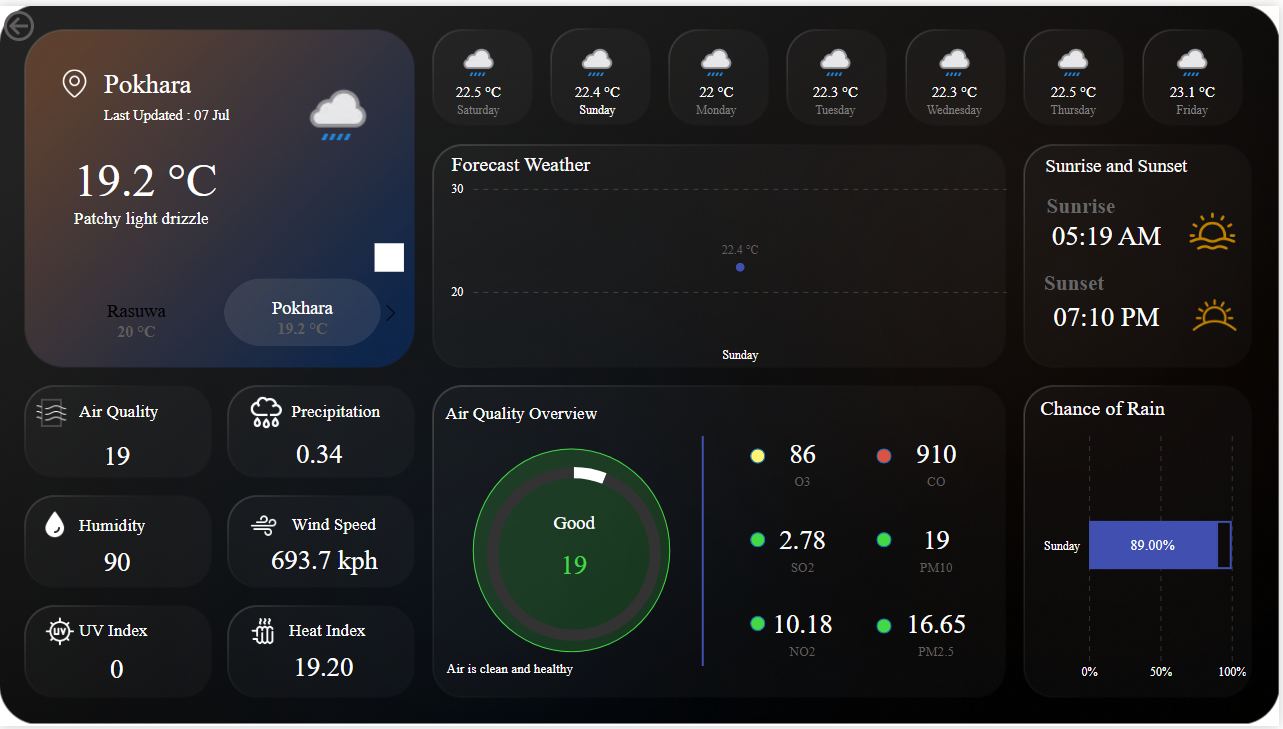

Layout of this report page (visuals, bound fields, positions):
{"tool":"powerbi","page":{"name":"Page 1","canvas":[1280,720],"ordinal":0},"visuals":[{"type":"shape","box":[473.8,442.5,197.5,203.8],"z":0},{"type":"advancedSlicerVisual","fields":{"Values":["Locations.location.name"]},"box":[33.3,267,373.3,75.6],"z":1000},{"type":"shape","box":[75.6,147.8,211.1,48.9],"z":2000},{"type":"shape","box":[75.6,196.7,297.8,32.2],"z":3000},{"type":"shape","box":[105,58.8,138.8,38.8],"z":4000},{"type":"image","box":[48.8,58.8,53.8,37.5],"z":5000},{"type":"shape","box":[105,97.5,137.5,22.5],"z":6000},{"type":"cardVisual","fields":{"Data":["Min(Current.current.condition.icon)"]},"box":[286.7,50,110,93.3],"z":7000},{"type":"image","box":[35,500,41,37],"z":8000},{"type":"shape","box":[80,507,105,25],"z":9000},{"type":"card","fields":{"Values":["Sum(Current.current.humidity)"]},"box":[74,532,89,47],"z":10000},{"type":"image","box":[243.7,500.7,42.2,37.4],"z":11000},{"type":"shape","box":[292,506.7,105,25.3],"z":12000},{"type":"card","fields":{"Values":["_Measures.Wind_Speed"]},"box":[233,527,186,52],"z":13000},{"type":"image","box":[29,383,47,48],"z":14000},{"type":"shape","box":[80,394,105,25],"z":15000},{"type":"card","fields":{"Values":["Sum(Current.current.air_quality.pm10)"]},"box":[80,431,76,37],"z":16000},{"type":"image","box":[243,383,50,48],"z":17000},{"type":"shape","box":[293,394,105,25],"z":18000},{"type":"card","fields":{"Values":["Sum(Current.current.precip_mm)"]},"box":[287,431,66,34],"z":19000},{"type":"image","box":[41,605,39,40],"z":20000},{"type":"shape","box":[80,612,105,25],"z":21000},{"type":"card","fields":{"Values":["Sum(Current.current.uv)"]},"box":[94,645,48,36],"z":22000},{"type":"actionButton","box":[0,0,100,40],"z":23000},{"type":"image","box":[242,605,44,40],"z":24000},{"type":"shape","box":[290,612,105,25],"z":25000},{"type":"card","fields":{"Values":["Sum(Current.current.heatindex_c)"]},"box":[287,640,74,41],"z":26000},{"type":"advancedSlicerVisual","fields":{"Values":["Forecast_Day.Forecast_Day"]},"box":[418.9,25.6,841.1,104.4],"z":27000},{"type":"lineChart","title":"Forecast Weather","fields":{"Category":["Forecast_Day.Forecast_Day"],"Y":["Sum(Forecast_Day.forecast.forecastday.day.avgtemp_c)"]},"box":[447.1,147.1,565.7,217.1],"z":28000},{"type":"shape","box":[1046.2,147.5,151.2,25],"z":29000},{"type":"card","fields":{"Values":["Min(Forecast_Day.Sunrise_Date)"]},"box":[1045,213.8,125,31.2],"z":30000},{"type":"card","fields":{"Values":["Min(Forecast_Day.Sunset_Date)"]},"box":[1045,296.2,125,30],"z":31000},{"type":"shape","box":[1047.5,187.5,125,25],"z":32000},{"type":"shape","box":[1044.5,265.5,125,25],"z":33000},{"type":"image","box":[1184.5,197.3,56.4,55.5],"z":34000},{"type":"image","box":[1180,274.5,70.9,68.2],"z":35000},{"type":"hundredPercentStackedBarChart","title":"Chance of Rain","fields":{"Y":["Sum(Forecast_Day.forecast.forecastday.day.daily_chance_of_rain)","_Measures.Left_Value_Rain"],"Category":["Forecast_Day.Forecast_Day"]},"box":[1035.7,391.4,215.7,290],"z":36000},{"type":"card","fields":{"Values":["Sum(Current.current.air_quality.co)"]},"box":[892.5,420,90,70],"z":37000},{"type":"shape","box":[446.7,395.6,166.7,24.4],"z":38000},{"type":"card","fields":{"Values":["Sum(Current.current.air_quality.pm10)"]},"box":[892.5,506.2,90,70],"z":39000},{"type":"card","fields":{"Values":["Sum(Current.current.air_quality.pm2_5)"]},"box":[892.5,590,90,70],"z":40000},{"type":"card","fields":{"Values":["Sum(Current.current.air_quality.o3)"]},"box":[758.8,420,90,70],"z":41000},{"type":"card","fields":{"Values":["Sum(Current.current.air_quality.so2)"]},"box":[758.8,506.2,90,70],"z":42000},{"type":"card","fields":{"Values":["Sum(Current.current.air_quality.no2)"]},"box":[758.8,590,90,70],"z":43000},{"type":"shape","box":[877.5,526.2,15,15],"z":44000},{"type":"shape","box":[877.5,442.5,15,15],"z":45000},{"type":"shape","box":[877.5,612.5,15,15],"z":46000},{"type":"shape","box":[751.2,442.5,15,15],"z":47000},{"type":"shape","box":[751.2,526.2,15,15],"z":48000},{"type":"shape","box":[751.2,610,15,15],"z":49000},{"type":"shape","box":[628.8,430,150,230],"z":50000},{"type":"card","fields":{"Values":["Sum(Current.current.air_quality.pm10)"]},"box":[518.8,506.2,112.5,83.8],"z":51000},{"type":"donutChart","fields":{"Y":["Sum(Current.current.air_quality.pm10)","_Measures.Left_value_PM10"]},"box":[461.2,425,227.5,246.2],"z":52000},{"type":"shape","box":[447.8,651.1,255.6,24.4],"z":53000}]}

Visuals, with their boxes in screenshot pixels (x1, y1, x2, y2), scaled from the page's 1280x720 canvas onto the 1283x729 screenshot:
shape: [x1=475, y1=448, x2=673, y2=654]
advancedSlicerVisual - Locations.location.name: [x1=33, y1=270, x2=408, y2=347]
shape: [x1=76, y1=150, x2=287, y2=199]
shape: [x1=76, y1=199, x2=374, y2=232]
shape: [x1=105, y1=60, x2=244, y2=99]
image: [x1=49, y1=60, x2=103, y2=98]
shape: [x1=105, y1=99, x2=243, y2=122]
cardVisual - Min(Current.current.condition.icon): [x1=287, y1=51, x2=398, y2=145]
image: [x1=35, y1=506, x2=76, y2=544]
shape: [x1=80, y1=513, x2=185, y2=539]
card - Sum(Current.current.humidity): [x1=74, y1=539, x2=163, y2=586]
image: [x1=244, y1=507, x2=287, y2=545]
shape: [x1=293, y1=513, x2=398, y2=539]
card - _Measures.Wind_Speed: [x1=234, y1=534, x2=420, y2=586]
image: [x1=29, y1=388, x2=76, y2=436]
shape: [x1=80, y1=399, x2=185, y2=424]
card - Sum(Current.current.air_quality.pm10): [x1=80, y1=436, x2=156, y2=474]
image: [x1=244, y1=388, x2=294, y2=436]
shape: [x1=294, y1=399, x2=399, y2=424]
card - Sum(Current.current.precip_mm): [x1=288, y1=436, x2=354, y2=471]
image: [x1=41, y1=613, x2=80, y2=653]
shape: [x1=80, y1=620, x2=185, y2=645]
card - Sum(Current.current.uv): [x1=94, y1=653, x2=142, y2=690]
actionButton: [x1=0, y1=0, x2=100, y2=40]
image: [x1=243, y1=613, x2=287, y2=653]
shape: [x1=291, y1=620, x2=396, y2=645]
card - Sum(Current.current.heatindex_c): [x1=288, y1=648, x2=362, y2=690]
advancedSlicerVisual - Forecast_Day.Forecast_Day: [x1=420, y1=26, x2=1263, y2=132]
"Forecast Weather" lineChart: [x1=448, y1=149, x2=1015, y2=369]
shape: [x1=1049, y1=149, x2=1200, y2=175]
card - Min(Forecast_Day.Sunrise_Date): [x1=1047, y1=216, x2=1173, y2=248]
card - Min(Forecast_Day.Sunset_Date): [x1=1047, y1=300, x2=1173, y2=330]
shape: [x1=1050, y1=190, x2=1175, y2=215]
shape: [x1=1047, y1=269, x2=1172, y2=294]
image: [x1=1187, y1=200, x2=1244, y2=256]
image: [x1=1183, y1=278, x2=1254, y2=347]
"Chance of Rain" hundredPercentStackedBarChart: [x1=1038, y1=396, x2=1254, y2=690]
card - Sum(Current.current.air_quality.co): [x1=895, y1=425, x2=985, y2=496]
shape: [x1=448, y1=401, x2=615, y2=425]
card - Sum(Current.current.air_quality.pm10): [x1=895, y1=513, x2=985, y2=583]
card - Sum(Current.current.air_quality.pm2_5): [x1=895, y1=597, x2=985, y2=668]
card - Sum(Current.current.air_quality.o3): [x1=761, y1=425, x2=851, y2=496]
card - Sum(Current.current.air_quality.so2): [x1=761, y1=513, x2=851, y2=583]
card - Sum(Current.current.air_quality.no2): [x1=761, y1=597, x2=851, y2=668]
shape: [x1=880, y1=533, x2=895, y2=548]
shape: [x1=880, y1=448, x2=895, y2=463]
shape: [x1=880, y1=620, x2=895, y2=635]
shape: [x1=753, y1=448, x2=768, y2=463]
shape: [x1=753, y1=533, x2=768, y2=548]
shape: [x1=753, y1=618, x2=768, y2=633]
shape: [x1=630, y1=435, x2=781, y2=668]
card - Sum(Current.current.air_quality.pm10): [x1=520, y1=513, x2=633, y2=597]
donutChart - Sum(Current.current.air_quality.pm10) x _Measures.Left_value_PM10: [x1=462, y1=430, x2=690, y2=680]
shape: [x1=449, y1=659, x2=705, y2=684]
